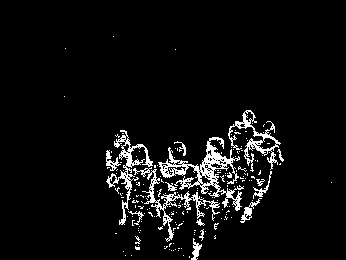person: (241, 119, 288, 224), (152, 139, 196, 247), (193, 135, 231, 258), (122, 143, 156, 253), (103, 127, 136, 226), (227, 107, 258, 208)
